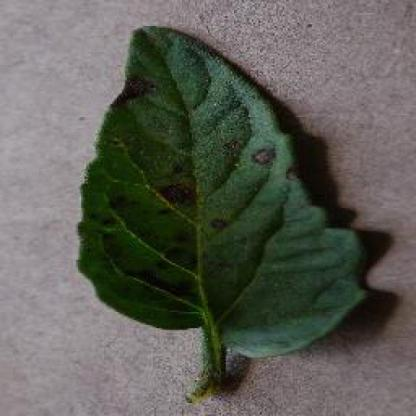Tomato_Blight: (80, 25, 369, 362)
